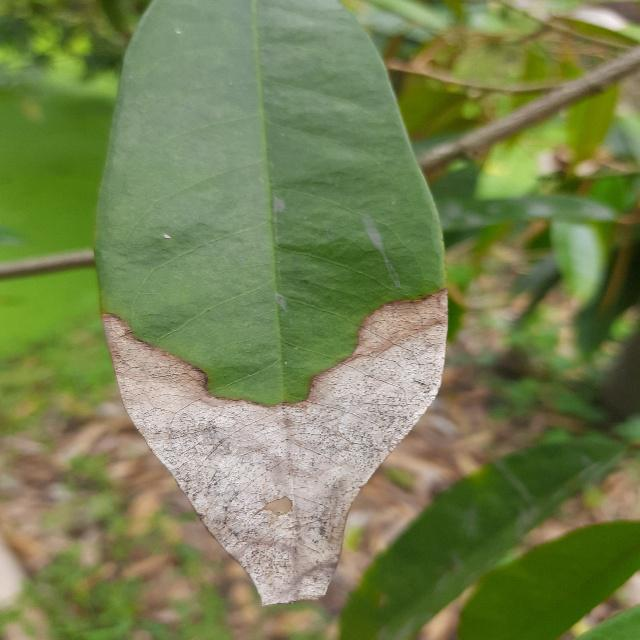Leaf Blight: (89, 0, 454, 610)
